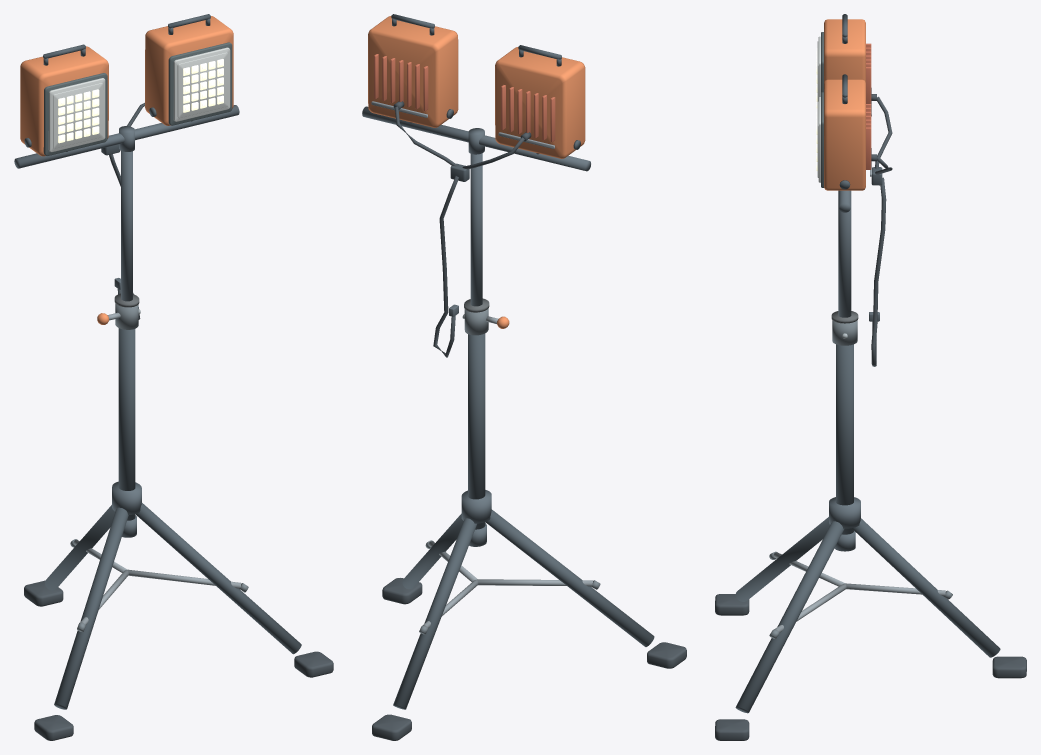
Rendered from CSE_PortableWorkLight.fbx.
3 renders of one model, left to right at view 1: azimuth 30°, elevation 25°; view 2: azimuth 150°, elevation 25°; view 3: azimuth 270°, elevation 25°, orthographic. The views are drawn at different scales.
Parts seen in each view (by area): view 1: CSE_PortableWorkLight::024_L_DieCast_Orange_Floodlight_Housi, CSE_PortableWorkLight::097_R_DieCast_Orange_Floodlight_Housi, CSE_PortableWorkLight::000_Black_Lower_Telescoping_Pole, CSE_PortableWorkLight::007_Tripod_Splaying_Leg_FrontLeft, CSE_PortableWorkLight::011_Tripod_Splaying_Leg_FrontRight, CSE_PortableWorkLight::001_Black_Upper_Telescoping_Tube, CSE_PortableWorkLight::022_Dual_Head_Transverse_Steel_T_Bar, CSE_PortableWorkLight::100_R_Inner_Grid_Baseplate, CSE_PortableWorkLight::027_L_Inner_Grid_Baseplate, CSE_PortableWorkLight::015_Tripod_Splaying_Leg_Rear, CSE_PortableWorkLight::098_R_Black_Front_Perimeter_Gasket, CSE_PortableWorkLight::025_L_Black_Front_Perimeter_Gasket (+8 smaller); view 2: CSE_PortableWorkLight::097_R_DieCast_Orange_Floodlight_Housi, CSE_PortableWorkLight::024_L_DieCast_Orange_Floodlight_Housi, CSE_PortableWorkLight::000_Black_Lower_Telescoping_Pole, CSE_PortableWorkLight::007_Tripod_Splaying_Leg_FrontLeft, CSE_PortableWorkLight::015_Tripod_Splaying_Leg_Rear, CSE_PortableWorkLight::001_Black_Upper_Telescoping_Tube, CSE_PortableWorkLight::022_Dual_Head_Transverse_Steel_T_Bar, CSE_PortableWorkLight::011_Tripod_Splaying_Leg_FrontRight, CSE_PortableWorkLight::173_Short_Looped_Insulated_Power_Cord, CSE_PortableWorkLight::008_Molded_Rubber_Ground_Foot_FrontLe, CSE_PortableWorkLight::016_Molded_Rubber_Ground_Foot_Rear, CSE_PortableWorkLight::002_Fixed_Tripod_Hub_Collar (+3 smaller); view 3: CSE_PortableWorkLight::097_R_DieCast_Orange_Floodlight_Housi, CSE_PortableWorkLight::011_Tripod_Splaying_Leg_FrontRight, CSE_PortableWorkLight::000_Black_Lower_Telescoping_Pole, CSE_PortableWorkLight::015_Tripod_Splaying_Leg_Rear, CSE_PortableWorkLight::024_L_DieCast_Orange_Floodlight_Housi, CSE_PortableWorkLight::007_Tripod_Splaying_Leg_FrontLeft, CSE_PortableWorkLight::001_Black_Upper_Telescoping_Tube, CSE_PortableWorkLight::173_Short_Looped_Insulated_Power_Cord, CSE_PortableWorkLight::002_Fixed_Tripod_Hub_Collar, CSE_PortableWorkLight::016_Molded_Rubber_Ground_Foot_Rear, CSE_PortableWorkLight::012_Molded_Rubber_Ground_Foot_FrontRi, CSE_PortableWorkLight::008_Molded_Rubber_Ground_Foot_FrontLe (+2 smaller).
Part boxes in pixels (x1,y1,x2,y2): CSE_PortableWorkLight::024_L_DieCast_Orange_Floodlight_Housi: [20, 46, 108, 156]; CSE_PortableWorkLight::097_R_DieCast_Orange_Floodlight_Housi: [145, 16, 233, 125]; CSE_PortableWorkLight::000_Black_Lower_Telescoping_Pole: [118, 328, 135, 520]; CSE_PortableWorkLight::007_Tripod_Splaying_Leg_FrontLeft: [54, 507, 128, 709]; CSE_PortableWorkLight::011_Tripod_Splaying_Leg_FrontRight: [135, 503, 301, 654]; CSE_PortableWorkLight::001_Black_Upper_Telescoping_Tube: [121, 151, 132, 301]; CSE_PortableWorkLight::022_Dual_Head_Transverse_Steel_T_Bar: [14, 105, 239, 168]; CSE_PortableWorkLight::100_R_Inner_Grid_Baseplate: [177, 52, 227, 118]; CSE_PortableWorkLight::027_L_Inner_Grid_Baseplate: [53, 83, 103, 148]; CSE_PortableWorkLight::015_Tripod_Splaying_Leg_Rear: [45, 505, 114, 590]; CSE_PortableWorkLight::098_R_Black_Front_Perimeter_Gasket: [168, 42, 232, 125]; CSE_PortableWorkLight::025_L_Black_Front_Perimeter_Gasket: [43, 73, 107, 155]; CSE_PortableWorkLight::097_R_DieCast_Orange_Floodlight_Housi: [368, 16, 458, 127]; CSE_PortableWorkLight::024_L_DieCast_Orange_Floodlight_Housi: [495, 47, 585, 158]; CSE_PortableWorkLight::000_Black_Lower_Telescoping_Pole: [468, 333, 485, 529]; CSE_PortableWorkLight::007_Tripod_Splaying_Leg_FrontLeft: [485, 509, 654, 646]; CSE_PortableWorkLight::015_Tripod_Splaying_Leg_Rear: [393, 518, 476, 709]; CSE_PortableWorkLight::001_Black_Upper_Telescoping_Tube: [470, 153, 482, 306]; CSE_PortableWorkLight::022_Dual_Head_Transverse_Steel_T_Bar: [362, 106, 590, 171]; CSE_PortableWorkLight::011_Tripod_Splaying_Leg_FrontRight: [402, 513, 463, 589]; CSE_PortableWorkLight::173_Short_Looped_Insulated_Power_Cord: [433, 176, 458, 357]; CSE_PortableWorkLight::008_Molded_Rubber_Ground_Foot_FrontLe: [647, 642, 686, 668]; CSE_PortableWorkLight::016_Molded_Rubber_Ground_Foot_Rear: [372, 714, 411, 740]; CSE_PortableWorkLight::002_Fixed_Tripod_Hub_Collar: [461, 490, 491, 523]; CSE_PortableWorkLight::097_R_DieCast_Orange_Floodlight_Housi: [824, 79, 865, 190]; CSE_PortableWorkLight::011_Tripod_Splaying_Leg_FrontRight: [735, 521, 844, 713]; CSE_PortableWorkLight::000_Black_Lower_Telescoping_Pole: [836, 344, 853, 534]; CSE_PortableWorkLight::015_Tripod_Splaying_Leg_Rear: [852, 518, 1000, 657]; CSE_PortableWorkLight::024_L_DieCast_Orange_Floodlight_Housi: [824, 19, 865, 82]; CSE_PortableWorkLight::007_Tripod_Splaying_Leg_FrontLeft: [735, 517, 829, 601]; CSE_PortableWorkLight::001_Black_Upper_Telescoping_Tube: [838, 190, 851, 317]; CSE_PortableWorkLight::173_Short_Looped_Insulated_Power_Cord: [871, 177, 886, 366]; CSE_PortableWorkLight::002_Fixed_Tripod_Hub_Collar: [829, 497, 860, 528]; CSE_PortableWorkLight::016_Molded_Rubber_Ground_Foot_Rear: [992, 656, 1026, 678]; CSE_PortableWorkLight::012_Molded_Rubber_Ground_Foot_FrontRi: [715, 719, 749, 740]; CSE_PortableWorkLight::008_Molded_Rubber_Ground_Foot_FrontLe: [715, 594, 749, 615].
Bounding box in the file's own units: 0.83 × 1.73 × 0.79.
